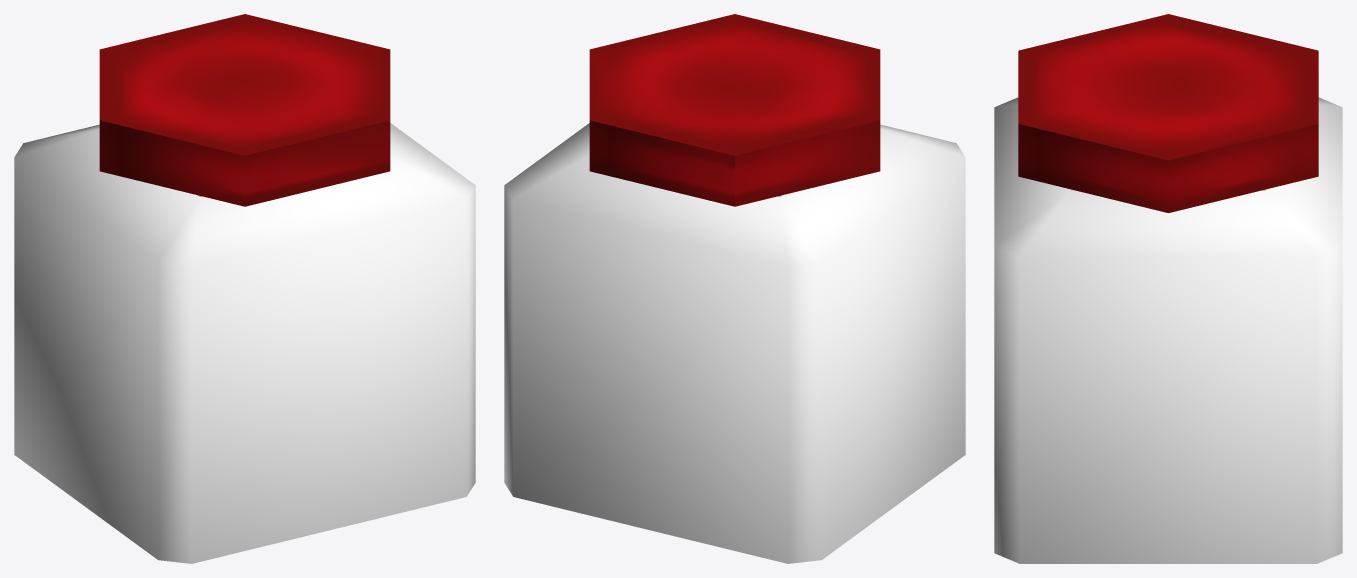
File: candycan.FBX
3 views of the same model, side by side, from view 1: azimuth 30°, elevation 25°; view 2: azimuth 150°, elevation 25°; view 3: azimuth 270°, elevation 25° (orthographic). The views are drawn at different scales.
Parts seen in each view (by area): view 1: candycan_body, candycan_TOP; view 2: candycan_body, candycan_TOP; view 3: candycan_body, candycan_TOP.
Boxes of the visible parts, box(x1,y1,x2,y2) form: candycan_body: box(14, 123, 475, 563); candycan_TOP: box(99, 14, 390, 206); candycan_body: box(504, 123, 965, 563); candycan_TOP: box(589, 14, 880, 206); candycan_body: box(994, 97, 1342, 563); candycan_TOP: box(1018, 14, 1318, 212).
Size of the model in its own units: 13.53 by 15.63 by 12.44.
1 material, 1 textured.
